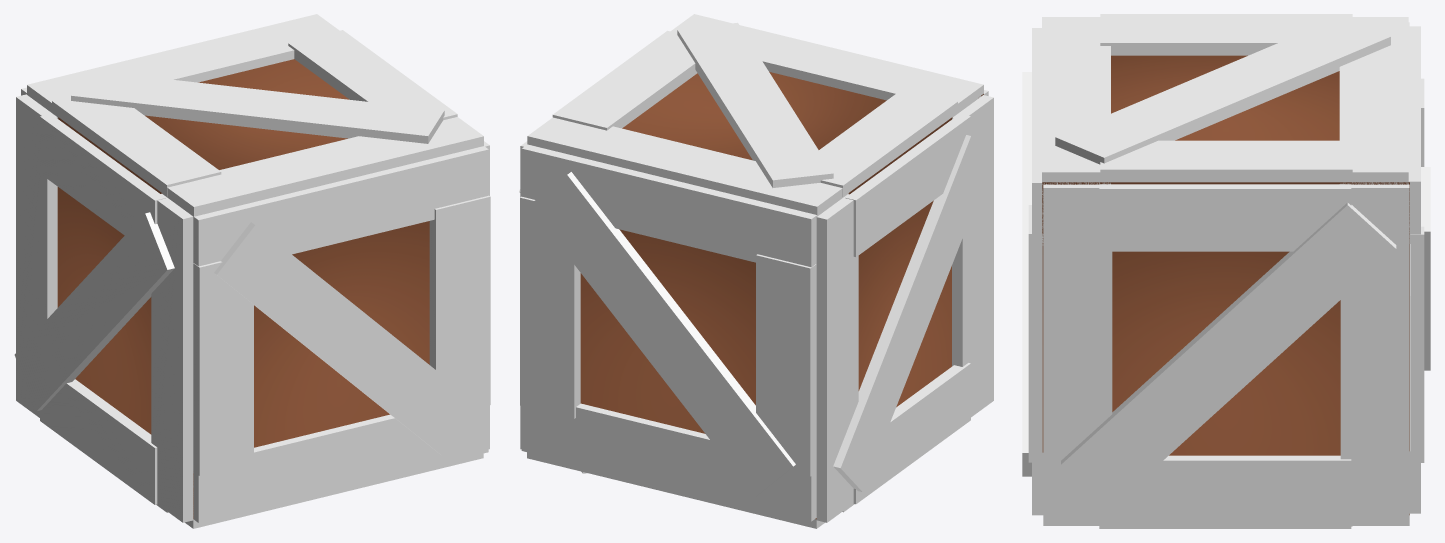
3 views of the same model, side by side, from view 1: azimuth 30°, elevation 25°; view 2: azimuth 150°, elevation 25°; view 3: azimuth 270°, elevation 25° (orthographic). The views are drawn at different scales.
Visible parts, largest first — view 1: box; view 2: box; view 3: box.
Boxes of the visible parts, x1=… form: box: x1=14, y1=14, x2=490, y2=528; box: x1=519, y1=14, x2=993, y2=528; box: x1=1022, y1=14, x2=1430, y2=528.
Size of the model in its own units: 0.587 by 0.5885 by 0.5875.
Materials: 2 (1 with a texture image).
